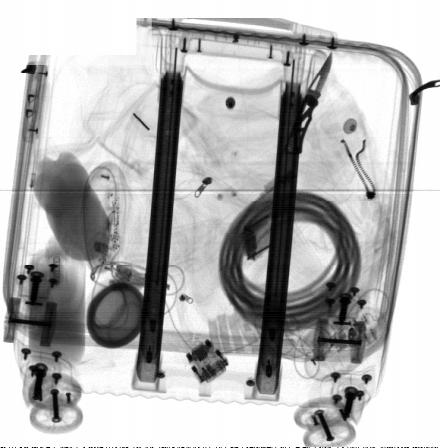Knife: (282, 50, 332, 155)
